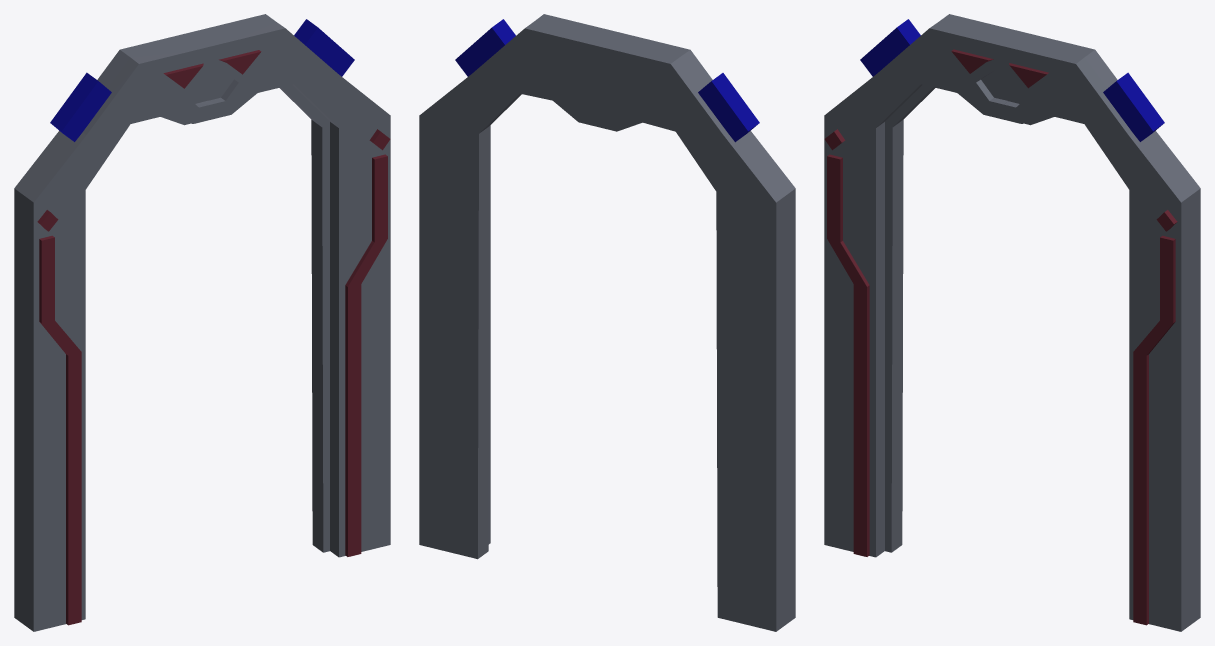
The model's file is doorMesh.fbx.
3 renders of one model, left to right at view 1: azimuth 30°, elevation 25°; view 2: azimuth 150°, elevation 25°; view 3: azimuth 330°, elevation 25°, orthographic.
Parts seen in each view (by area): view 1: polySurface7; view 2: polySurface7; view 3: polySurface7.
Part boxes in pixels (x1,y1,x2,y2): polySurface7: (14, 14, 390, 631); polySurface7: (419, 14, 795, 631); polySurface7: (824, 14, 1200, 631).
Bounding box in the file's own units: 2.37 × 3.44 × 0.2644.
